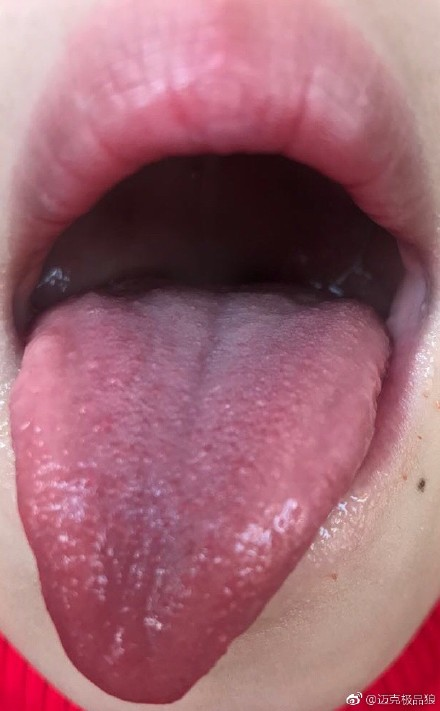hongshe: (9, 269, 392, 703)
shoushe: (9, 269, 392, 703)
